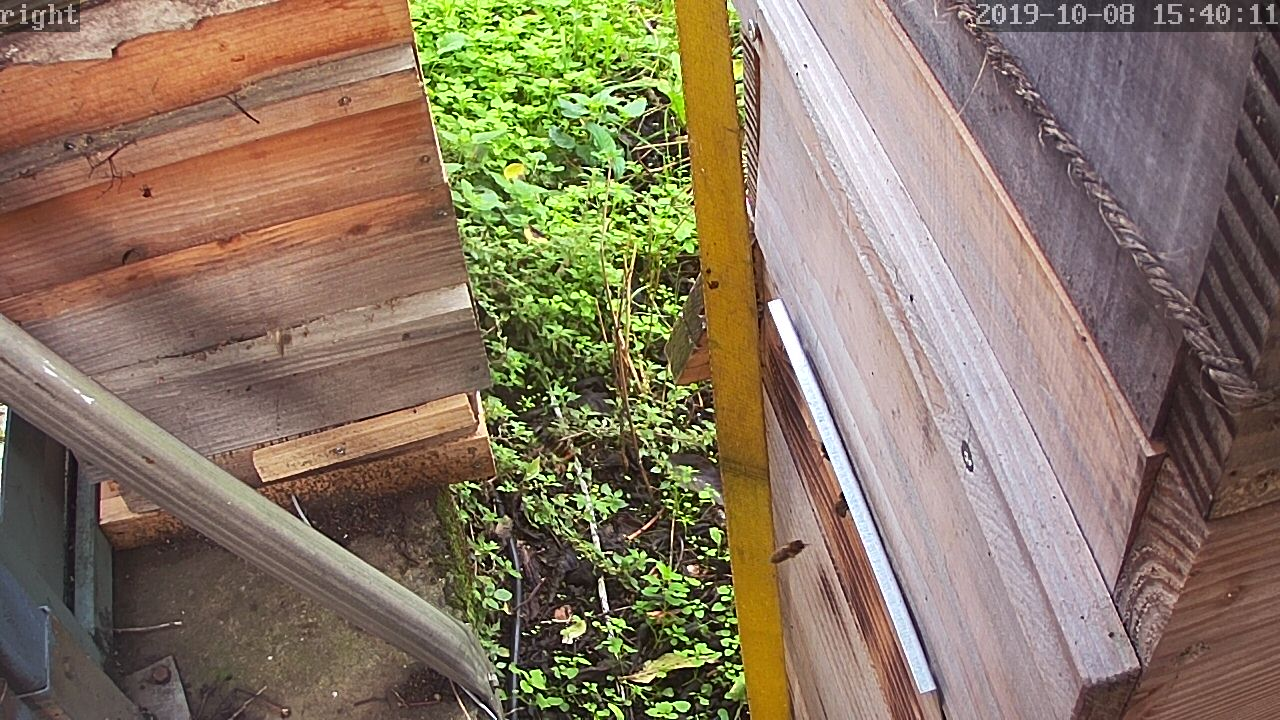bee: (760, 530, 818, 569), (810, 432, 842, 478), (829, 487, 860, 521)
